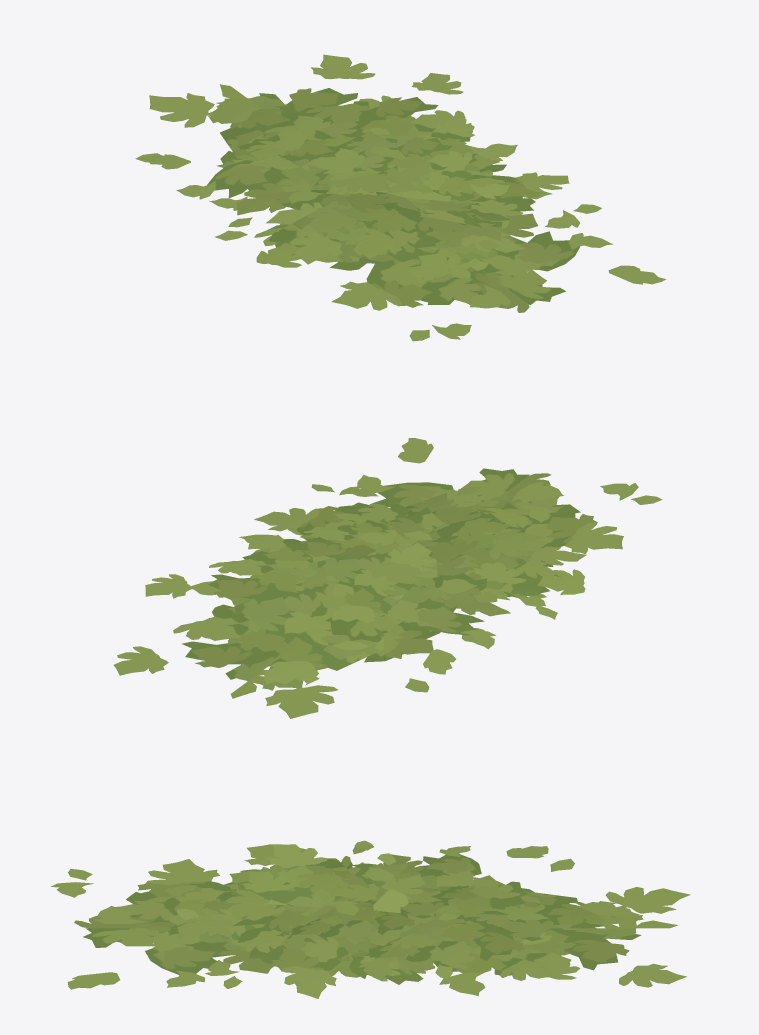
File: SM_Env_Vine_10.fbx
The picture shows the model from 3 angles, top to bottom: view 1: azimuth 30°, elevation 25°; view 2: azimuth 150°, elevation 25°; view 3: azimuth 270°, elevation 25°; orthographic projection. The views are drawn at different scales.
Parts seen in each view (by area): view 1: SM_Env_Vine_10; view 2: SM_Env_Vine_10; view 3: SM_Env_Vine_10.
Part boxes in pixels (<box>): SM_Env_Vine_10: <box>135,54,665,341</box>; SM_Env_Vine_10: <box>113,438,662,718</box>; SM_Env_Vine_10: <box>51,840,690,998</box>.
Size of the model in its own units: 212 by 21.74 by 305.
